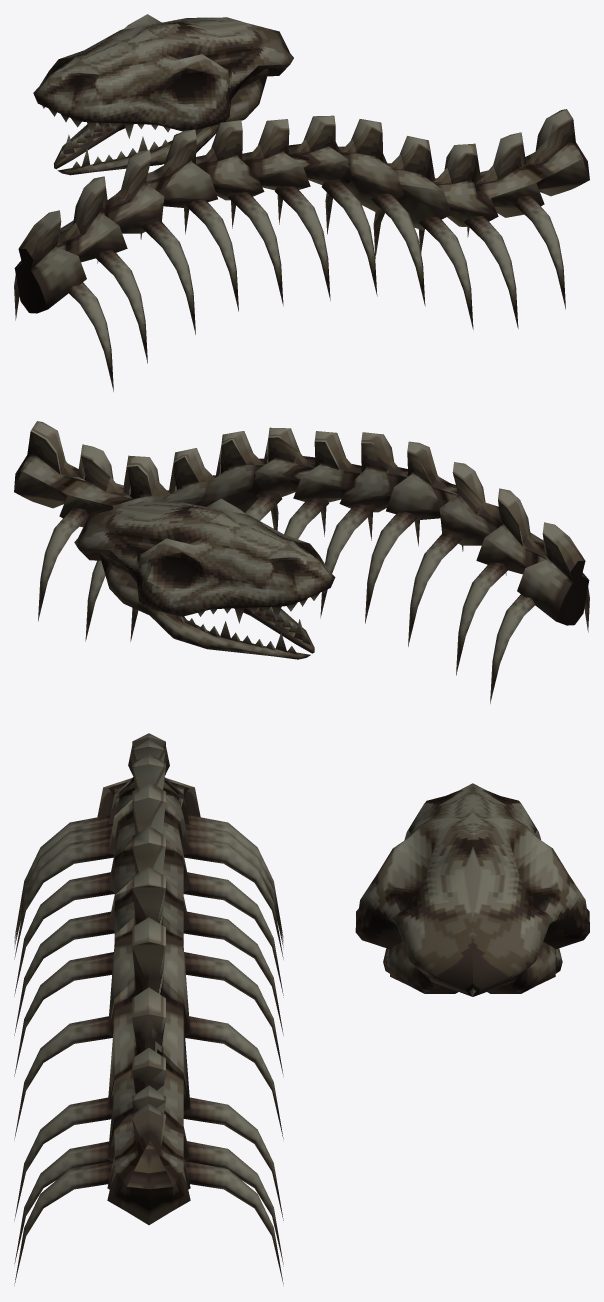
The model's file is EnvObjMD_Bone_C_Leviathan_Head.FBX.
3 renders of one model, top to bottom at view 1: azimuth 30°, elevation 25°; view 2: azimuth 150°, elevation 25°; view 3: azimuth 270°, elevation 25°, orthographic. The views are drawn at different scales.
Visible parts, largest first — view 1: EnvObjMD_Bone_C_Leviathan_Parts_A, EnvObjMD_Bone_C_Leviathan_Head; view 2: EnvObjMD_Bone_C_Leviathan_Parts_A, EnvObjMD_Bone_C_Leviathan_Head; view 3: EnvObjMD_Bone_C_Leviathan_Parts_A, EnvObjMD_Bone_C_Leviathan_Head.
Boxes of the visible parts, box(x1,y1,x2,y2) form: EnvObjMD_Bone_C_Leviathan_Parts_A: box(14, 109, 589, 391); EnvObjMD_Bone_C_Leviathan_Head: box(33, 14, 293, 175); EnvObjMD_Bone_C_Leviathan_Parts_A: box(14, 421, 589, 703); EnvObjMD_Bone_C_Leviathan_Head: box(74, 498, 335, 659); EnvObjMD_Bone_C_Leviathan_Parts_A: box(14, 733, 283, 1285); EnvObjMD_Bone_C_Leviathan_Head: box(355, 783, 589, 996).
Bounding box in the file's own units: 1110 × 445 × 726.
Materials: 1 (1 with a texture image).
